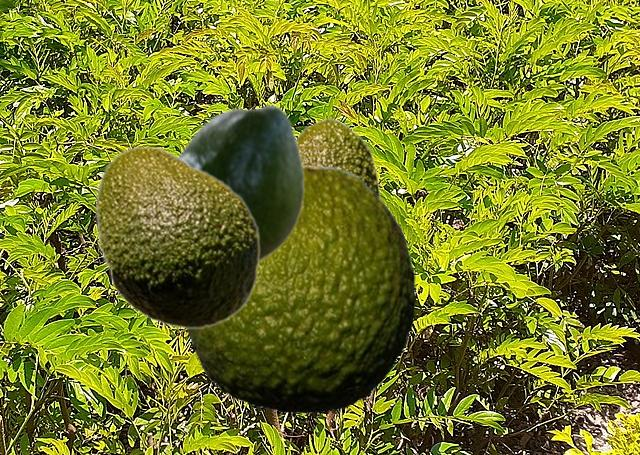avocado: (183, 164, 414, 412), (94, 145, 260, 329), (176, 103, 304, 263), (297, 118, 379, 194)
